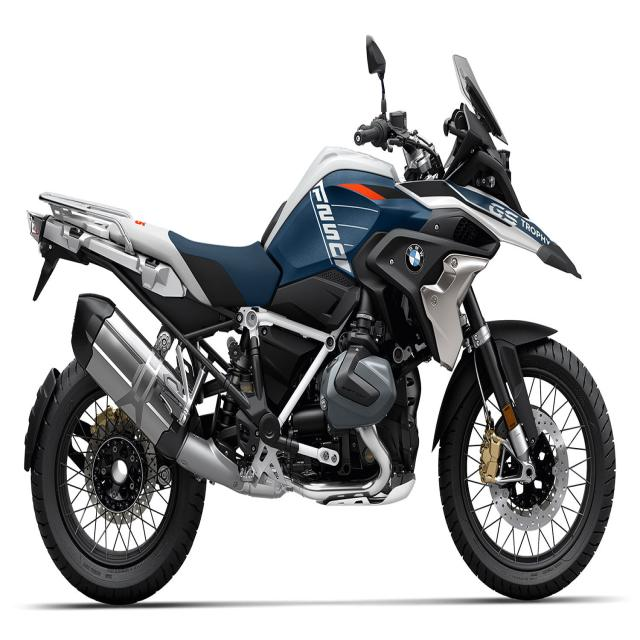Motorcycle: (24, 56, 616, 604)
